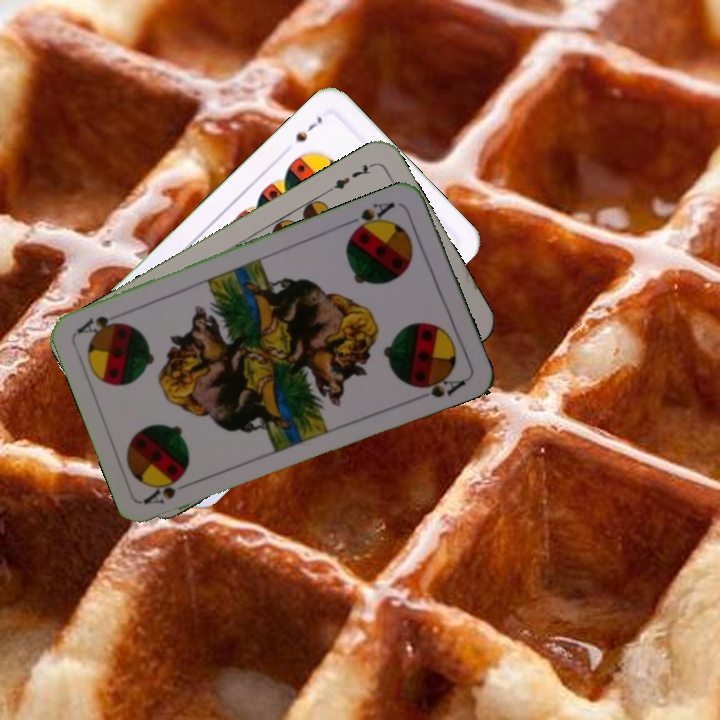E7: (323, 159, 377, 195)
S7: (290, 111, 325, 145)
SA: (344, 198, 398, 237), (140, 474, 198, 507)
